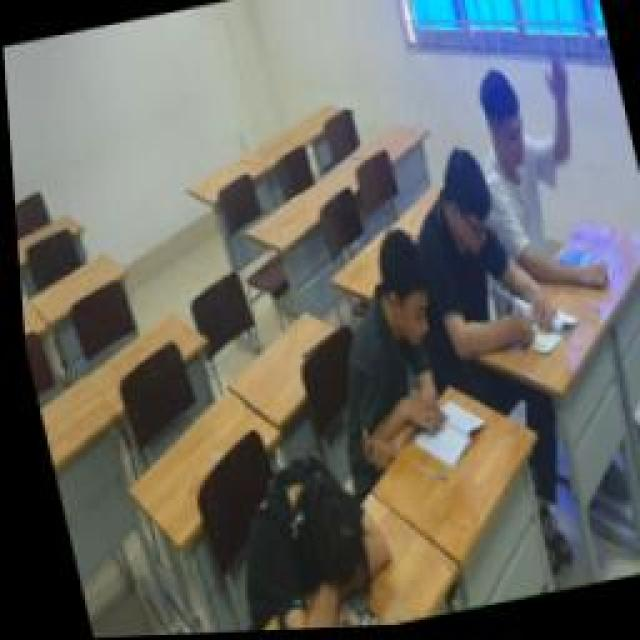sleep: (205, 447, 397, 635)
study: (302, 222, 488, 490), (390, 137, 580, 385), (455, 52, 617, 318)
